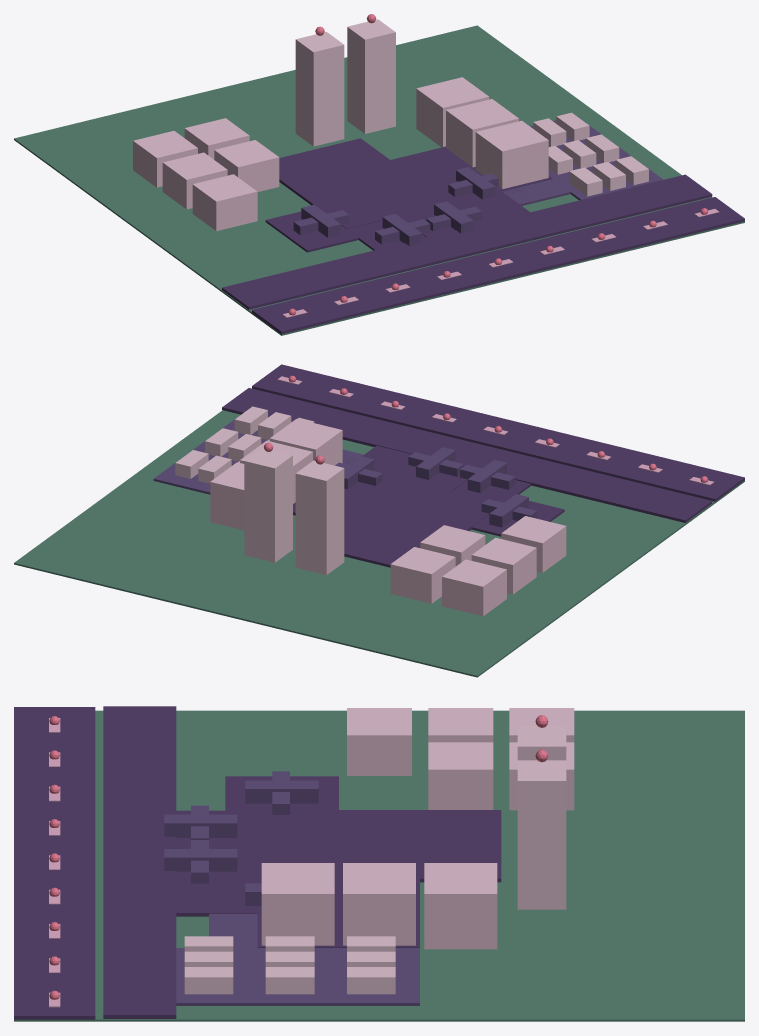
The model's file is stage_24.glb.
The picture shows the model from 3 angles, top to bottom: view 1: azimuth 30°, elevation 25°; view 2: azimuth 150°, elevation 25°; view 3: azimuth 270°, elevation 25°; orthographic projection. The views are drawn at different scales.
Parts seen in each view (by area): view 1: geometry_0; view 2: geometry_0; view 3: geometry_0.
Part boxes in pixels (x1,y1,x2,y2): geometry_0: [14, 14, 744, 335]; geometry_0: [14, 364, 744, 677]; geometry_0: [14, 706, 744, 1021].
Size of the model in its own units: 9 by 2.06 by 9.
